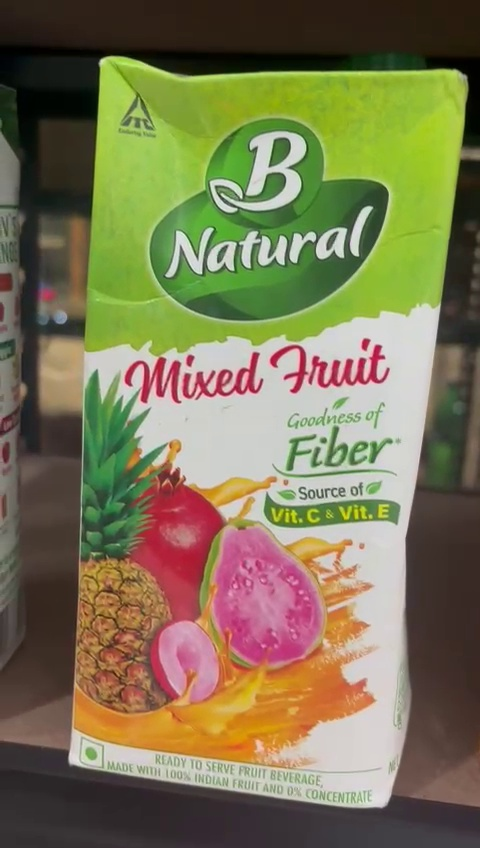Mixed Fruit: (81, 55, 448, 790)
